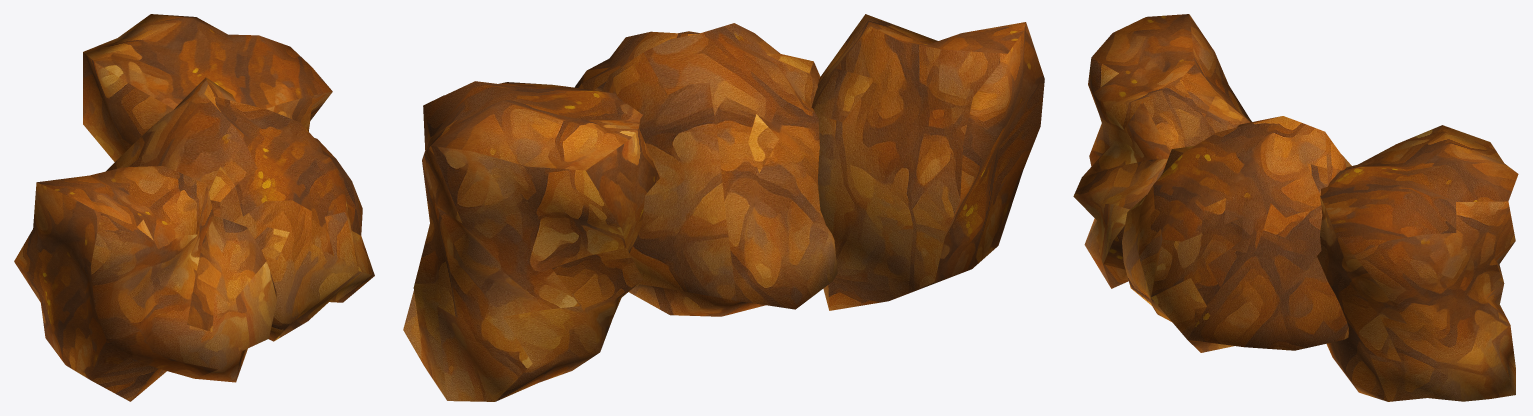
The model's file is RockComboBigA.fbx.
3 renders of one model, left to right at view 1: azimuth 30°, elevation 25°; view 2: azimuth 150°, elevation 25°; view 3: azimuth 270°, elevation 25°, orthographic. The views are drawn at different scales.
Visible parts, largest first — view 1: stoneComboBig; view 2: stoneComboBig; view 3: stoneComboBig.
Boxes of the visible parts, x1,y1,x2,y2 form: stoneComboBig: (14,14,374,401); stoneComboBig: (403,14,1044,401); stoneComboBig: (1073,14,1518,401).
Size of the model in its own units: 14.31 by 8.88 by 15.04.
